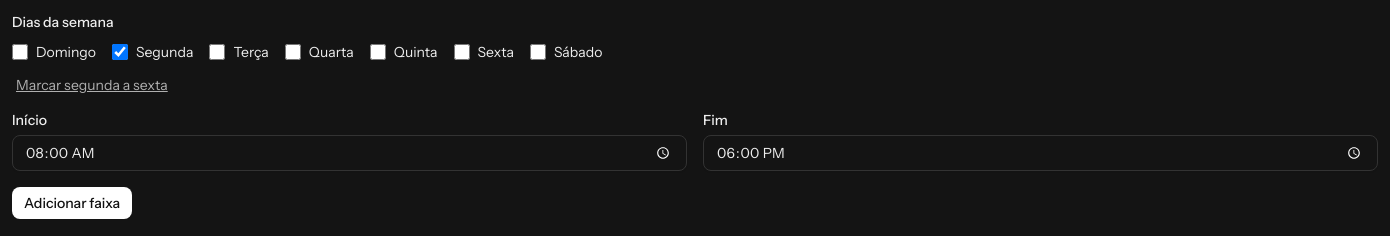
Test: faixa em vários dias (#149) › desabilita o envio sem nenhum dia marcado
Step 1. Click the checkbox labelled "Segunda" → (120, 52), box [112,44,128,60]
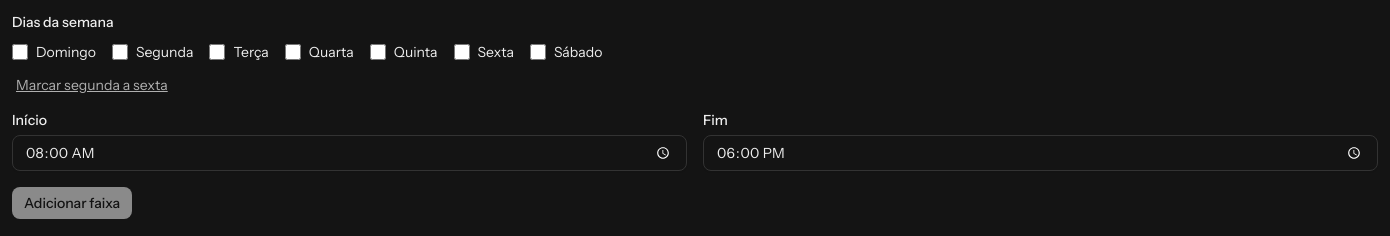
expect the button "Adicionar faixa" is disabled: met, box [12,187,132,219]
